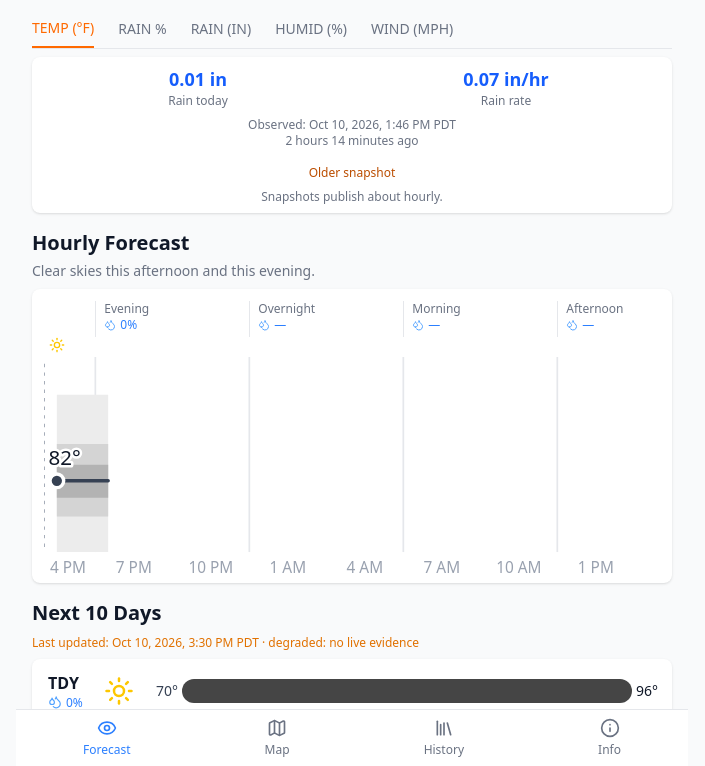
forecast freshness follows the client clock › retains degraded status while recalculating freshness
The image size is (705, 766).
Check: the text "degraded: no live evidence" is shown, box [32,634,419,651]
Click the button "Info" at (610, 738), box [582,714,637,762]
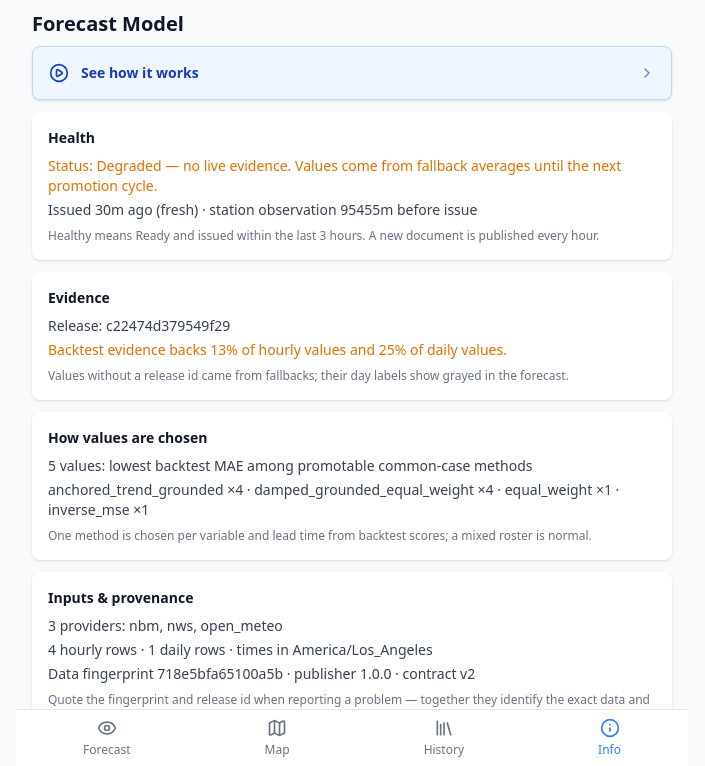
Check: the text "Status: Degraded" is shown, box [48,156,621,195]
Check: the text "Issued 30m ago (fresh)" is shown, box [48,200,477,219]
